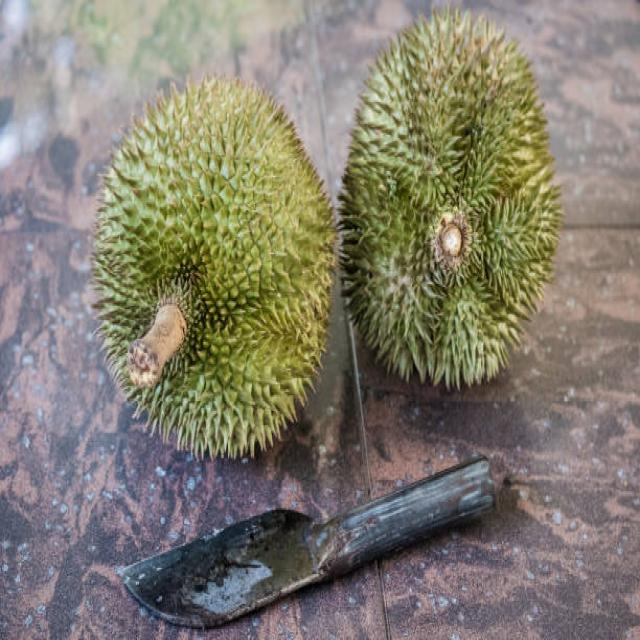immature: (85, 72, 342, 465), (337, 5, 565, 399)
